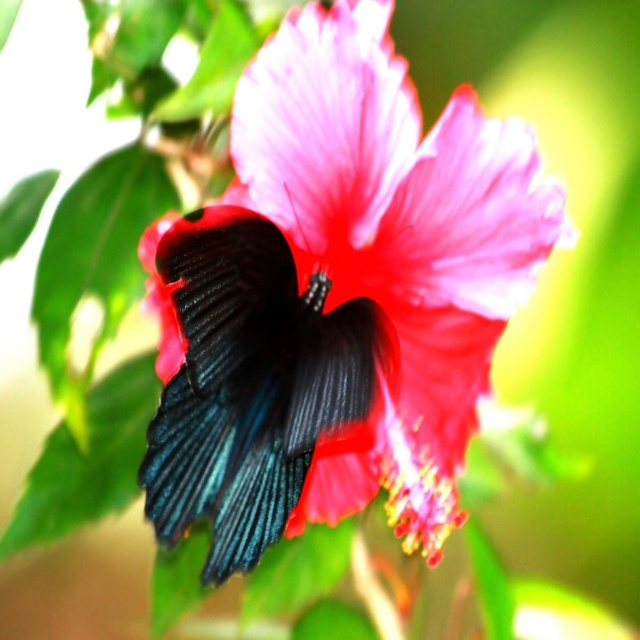Butterfly: (136, 203, 386, 591)
